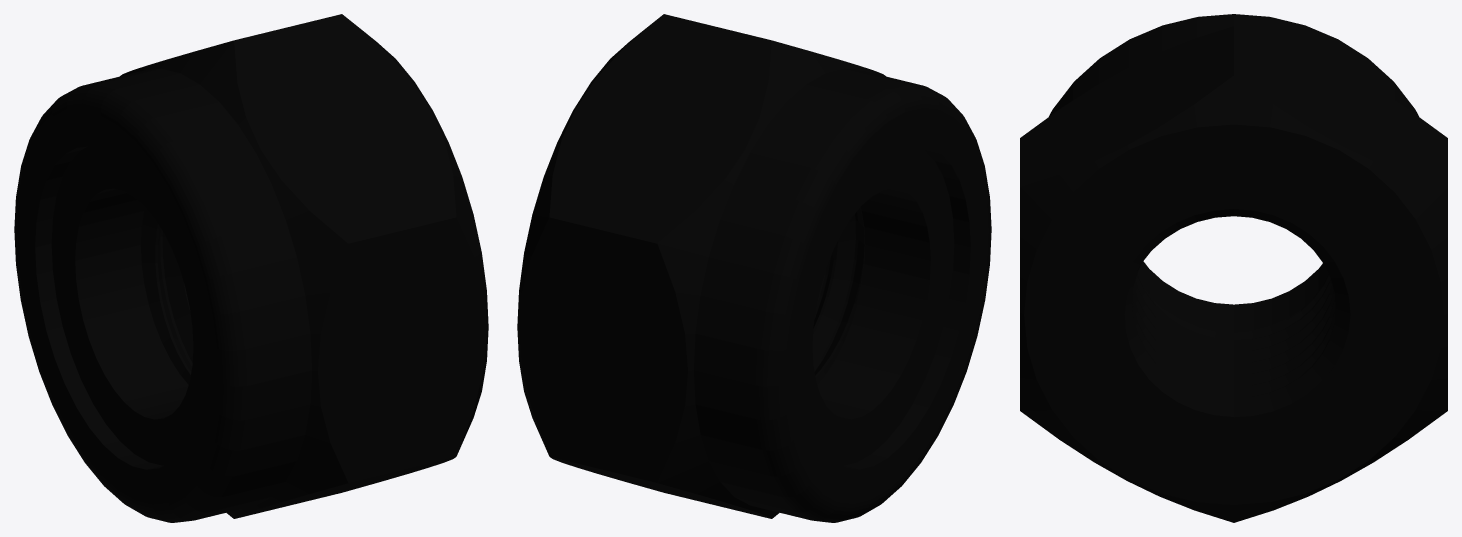
Rendered from Rohranschluss.fbx.
3 views of the same model, side by side, from view 1: azimuth 30°, elevation 25°; view 2: azimuth 150°, elevation 25°; view 3: azimuth 270°, elevation 25° (orthographic). The views are drawn at different scales.
Visible parts, largest first — view 1: Rohranschluss; view 2: Rohranschluss; view 3: Rohranschluss.
Boxes of the visible parts, x1=… form: Rohranschluss: x1=14, y1=14, x2=488, y2=522; Rohranschluss: x1=517, y1=14, x2=991, y2=522; Rohranschluss: x1=1020, y1=14, x2=1447, y2=522.
Size of the model in its own units: 17.57 by 31.12 by 26.95.
